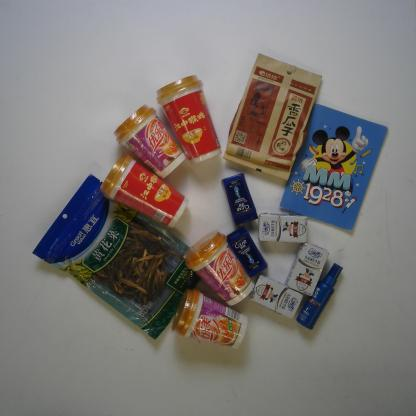Dried Food: (30, 172, 211, 341), (222, 52, 323, 180)
Instant Drink: (97, 151, 189, 229), (156, 73, 223, 165), (181, 228, 256, 309), (111, 102, 186, 180), (168, 286, 250, 351)
Milk: (248, 274, 306, 320), (283, 242, 330, 298), (256, 209, 310, 245)
Personal Hygiene: (296, 259, 345, 331), (223, 224, 268, 278), (221, 172, 259, 227)
Stationery: (278, 102, 388, 231)
